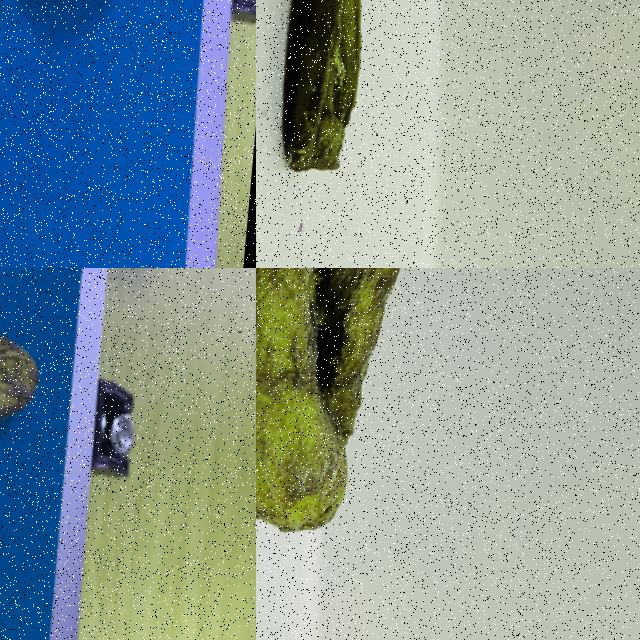Agglomerated_cocoabeans: (256, 268, 470, 599), (0, 0, 200, 103)
Fine_cocoabeans: (0, 268, 82, 564)
Flat_cocoabeans: (256, 0, 447, 243)
